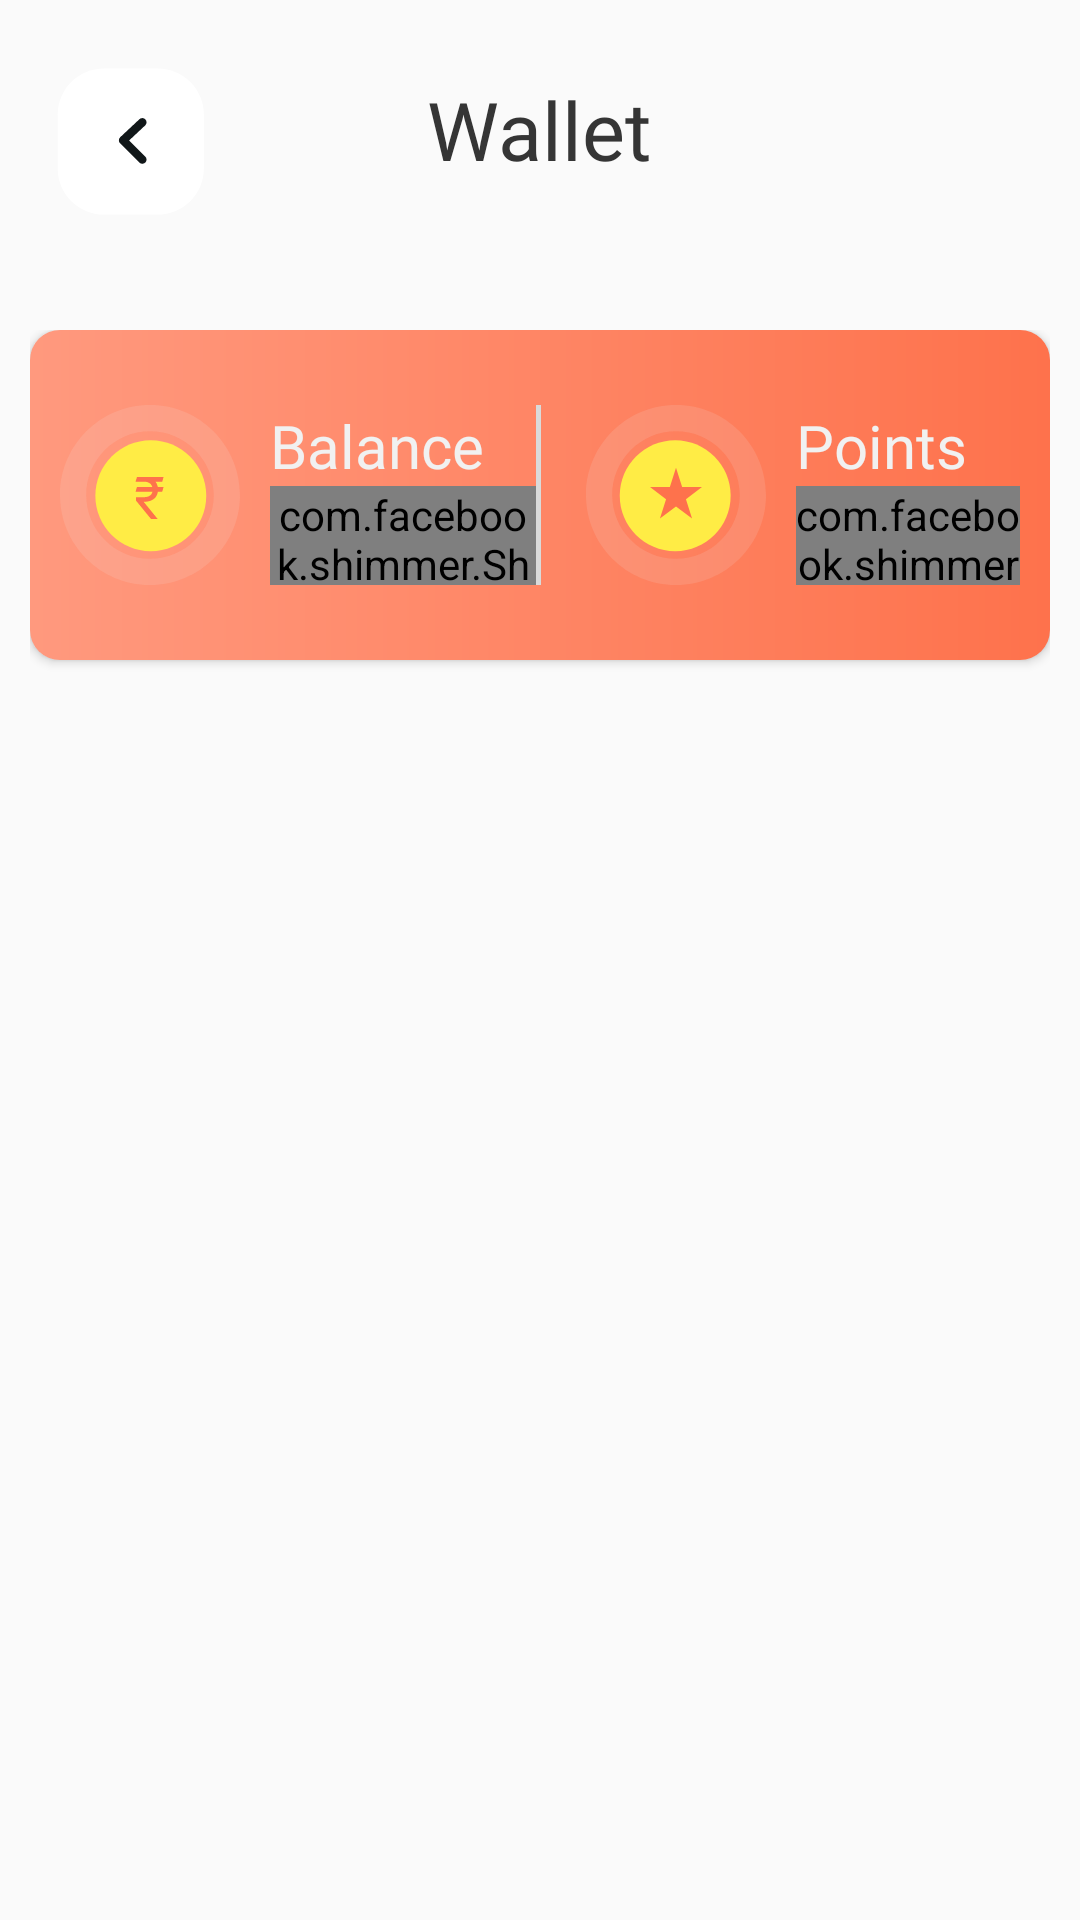

Locate icon controls on the screen. Image size 1080 × 1920, boxes as [left=x1, top=y1, right=x2, bottom=y2].
back: [left=119, top=118, right=147, bottom=164]
wallet currency: [left=95, top=440, right=206, bottom=551]
